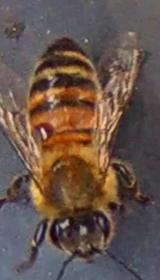varroa_mite: (24, 108, 62, 148)
